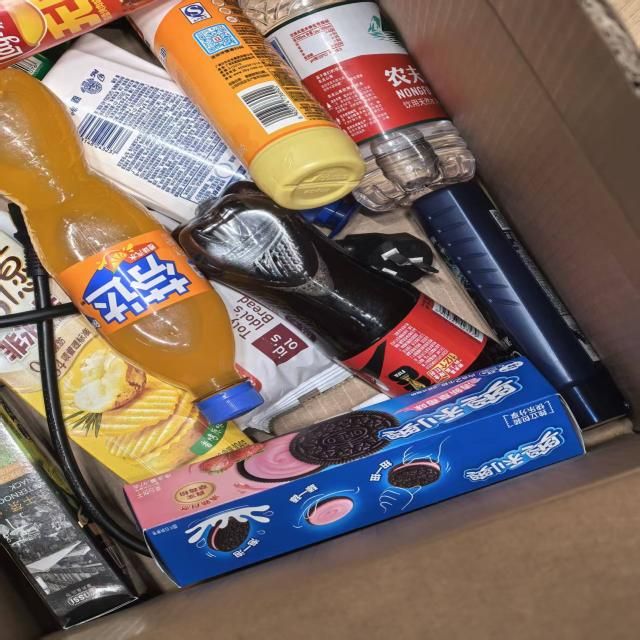orange: (70, 236, 192, 322)
